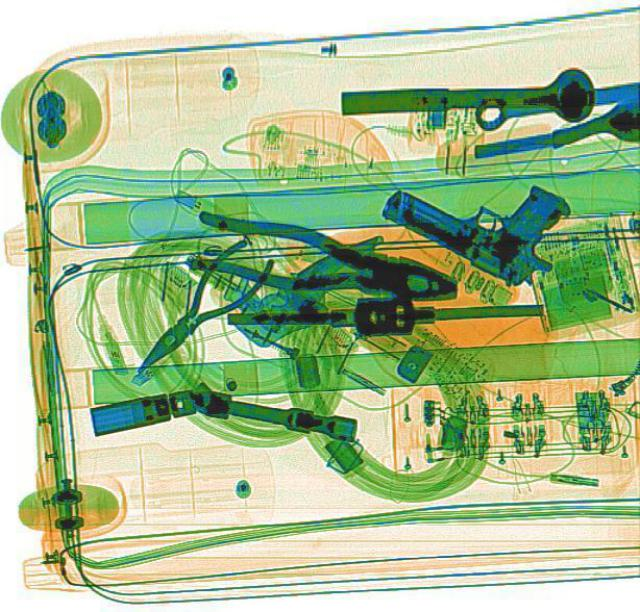Gun: (373, 125, 591, 296)
Pliers: (182, 204, 464, 316), (118, 232, 282, 386)
